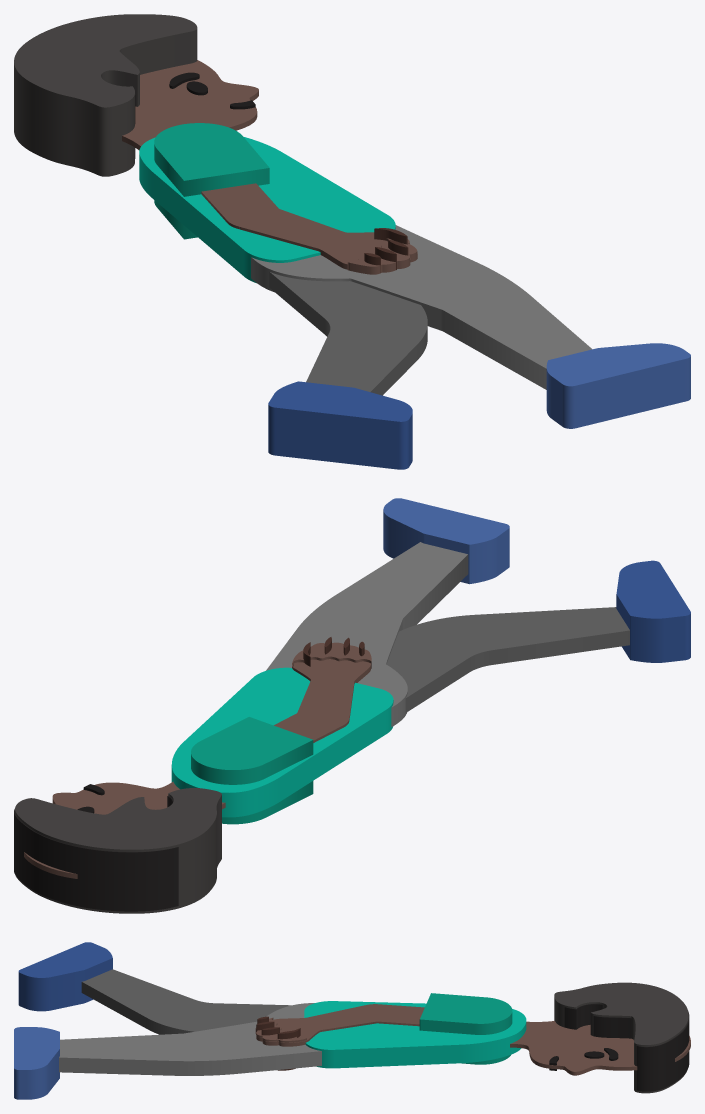
The model's file is emoji_u1f6b6_1f3ff_200d_2642_200d_27a1.glb.
3 renders of one model, top to bottom at view 1: azimuth 30°, elevation 25°; view 2: azimuth 150°, elevation 25°; view 3: azimuth 270°, elevation 25°, orthographic. The views are drawn at different scales.
Parts seen in each view (by area): view 1: emoji_u1f6b6_1f3ff_200d_2642_200d_27a1; view 2: emoji_u1f6b6_1f3ff_200d_2642_200d_27a1; view 3: emoji_u1f6b6_1f3ff_200d_2642_200d_27a1.
Part boxes in pixels (x1=…): emoji_u1f6b6_1f3ff_200d_2642_200d_27a1: x1=14, y1=14, x2=690, y2=469; emoji_u1f6b6_1f3ff_200d_2642_200d_27a1: x1=14, y1=498, x2=690, y2=913; emoji_u1f6b6_1f3ff_200d_2642_200d_27a1: x1=14, y1=942, x2=690, y2=1099.
Bounding box in the file's own units: 0.0146 × 0.0026 × 0.0331.
